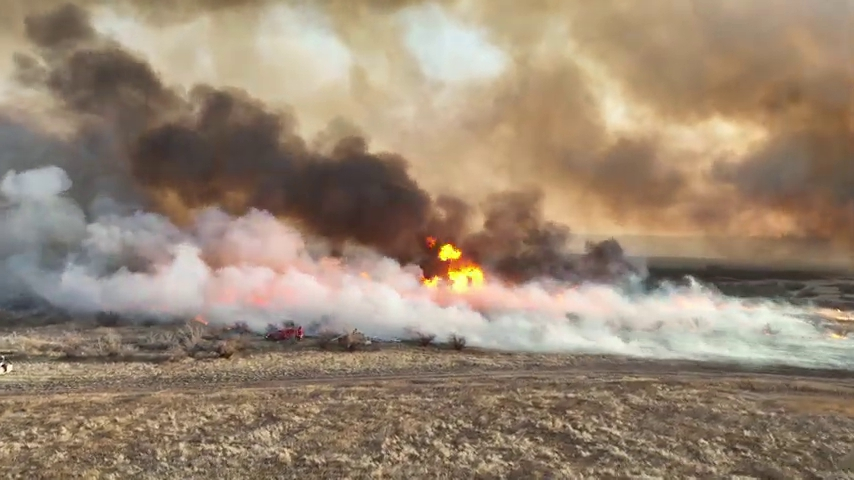forest_fire: (423, 243, 483, 291)
